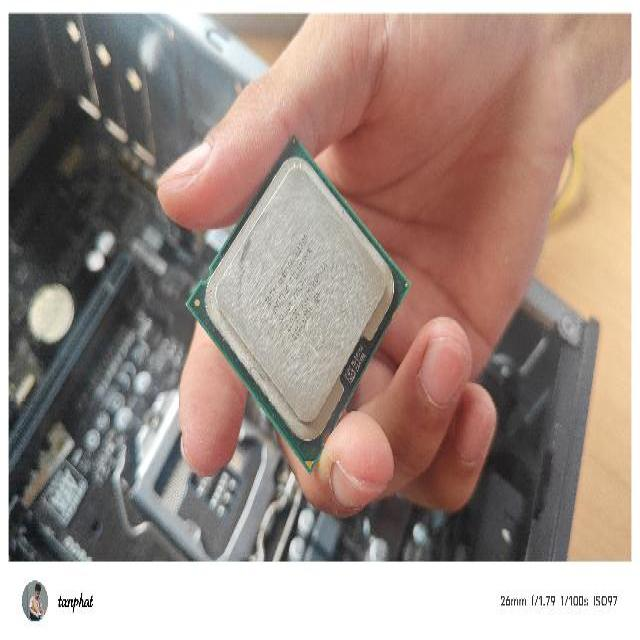CPU: (185, 130, 414, 477)
